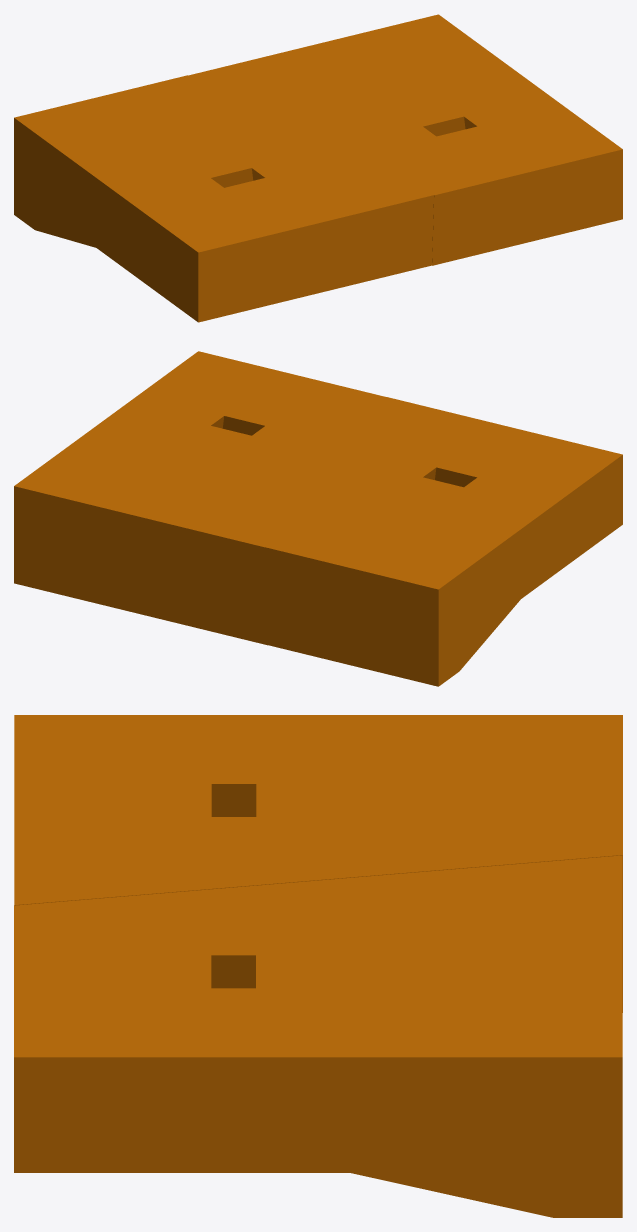
File: Obstacle3cut4.fbx
The picture shows the model from 3 angles, top to bottom: view 1: azimuth 30°, elevation 25°; view 2: azimuth 150°, elevation 25°; view 3: azimuth 270°, elevation 25°; orthographic projection. The views are drawn at different scales.
Visible parts, largest first — view 1: Cube, Cube.001; view 2: Cube, Cube.001; view 3: Cube.001, Cube.
Part boxes in pixels (bbox=[...]): Cube: bbox=[14, 75, 433, 322]; Cube.001: bbox=[188, 14, 622, 265]; Cube: bbox=[265, 397, 622, 686]; Cube.001: bbox=[14, 351, 386, 645]; Cube.001: bbox=[14, 855, 622, 1217]; Cube: bbox=[14, 715, 622, 1012].
Bounding box in the file's own units: 175 × 38.36 × 132.
